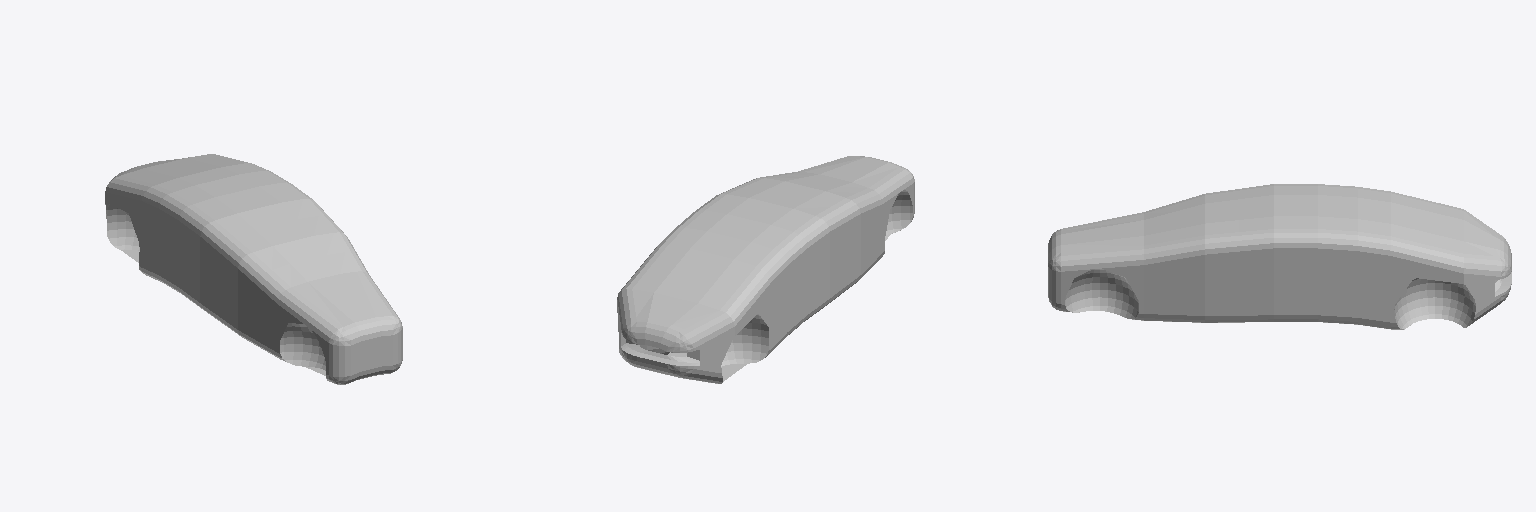
The model's file is auto.obj.
3 views of the same model, side by side, from view 1: azimuth 30°, elevation 25°; view 2: azimuth 150°, elevation 25°; view 3: azimuth 270°, elevation 25° (orthographic).
Parts seen in each view (by area): view 1: Cube_Cube.001; view 2: Cube_Cube.001; view 3: Cube_Cube.001.
Part boxes in pixels (x1,y1,x2,y2): Cube_Cube.001: (105, 154, 402, 384); Cube_Cube.001: (617, 156, 914, 383); Cube_Cube.001: (1048, 184, 1511, 329).
Size of the model in its own units: 5.15 by 4.21 by 17.58.